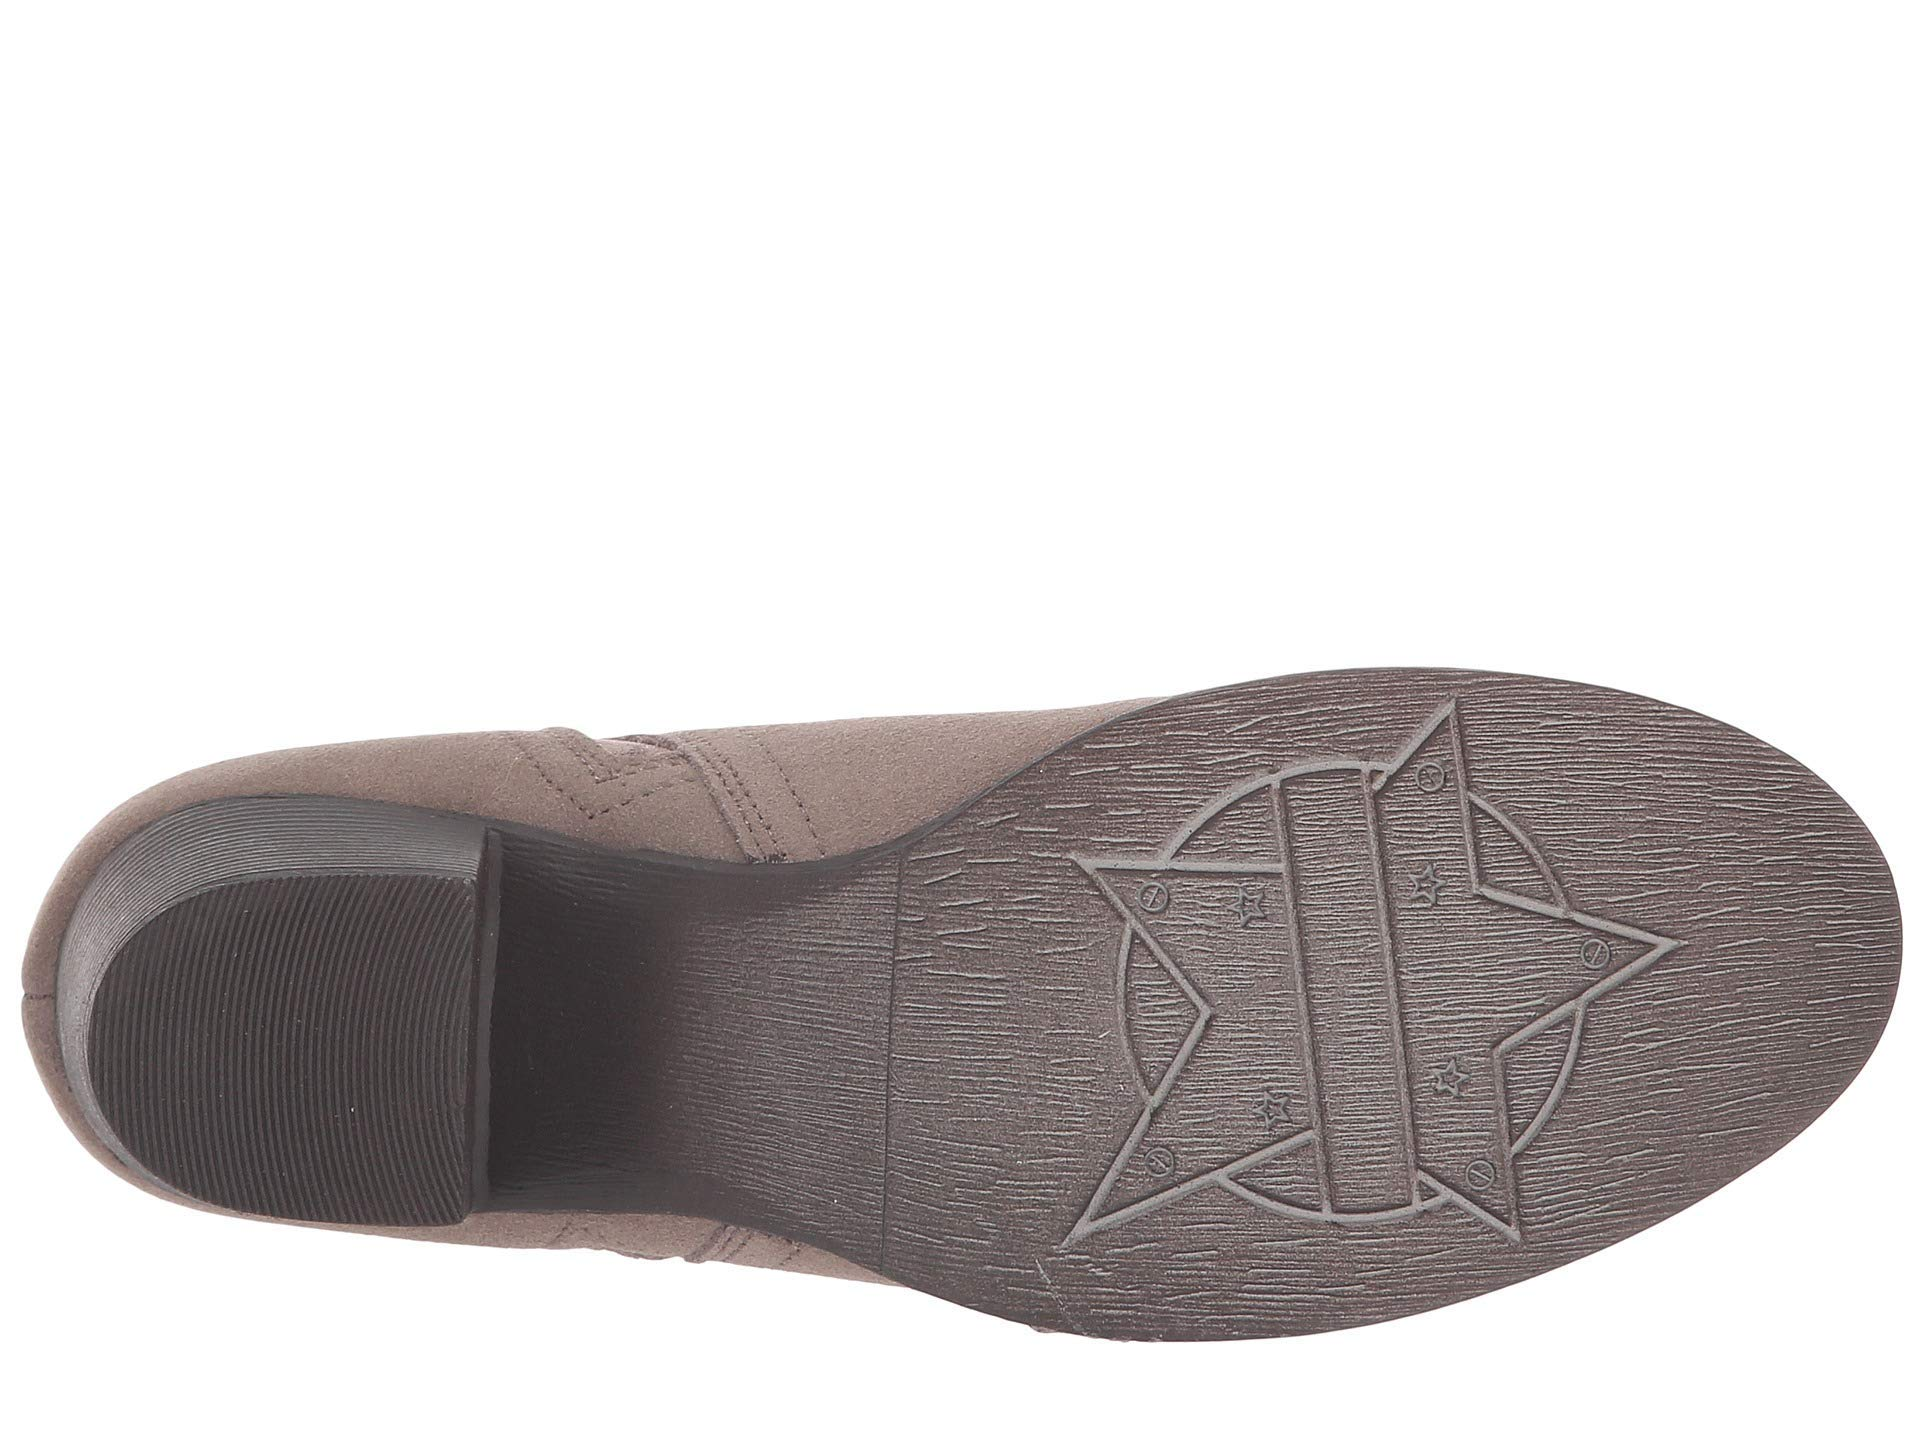circle: (1023, 709, 1710, 1314)
quad: (1023, 709, 1710, 1314)
star: (1023, 709, 1710, 1314), (1389, 846, 1468, 929)
